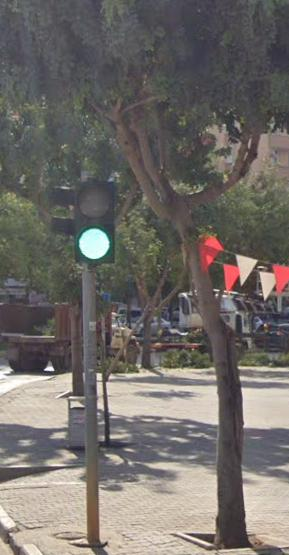greenlight: (74, 180, 118, 263)
